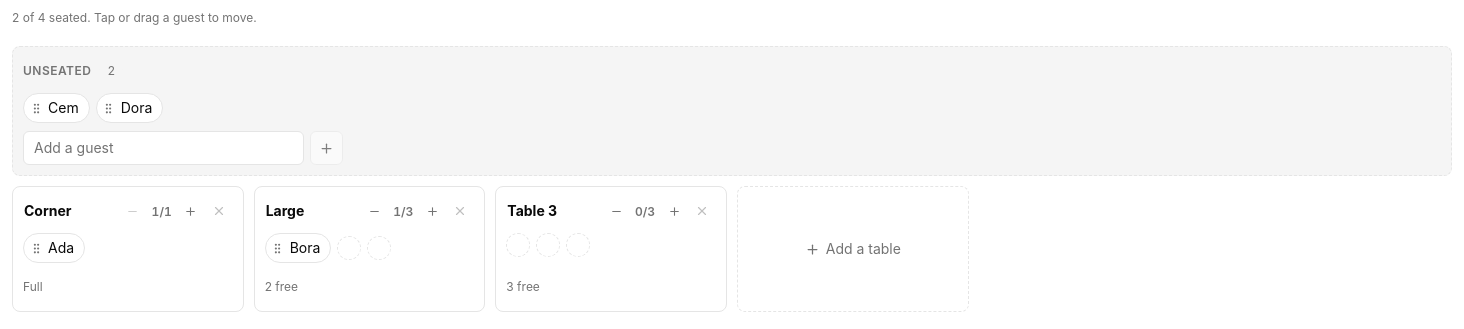
Seating › adds, renames and removes guests and tables
Earlier steps of the test are not shown.
Click the button named "One seat more at Corner". click: click(191, 211)
box: [179,199,203,223]
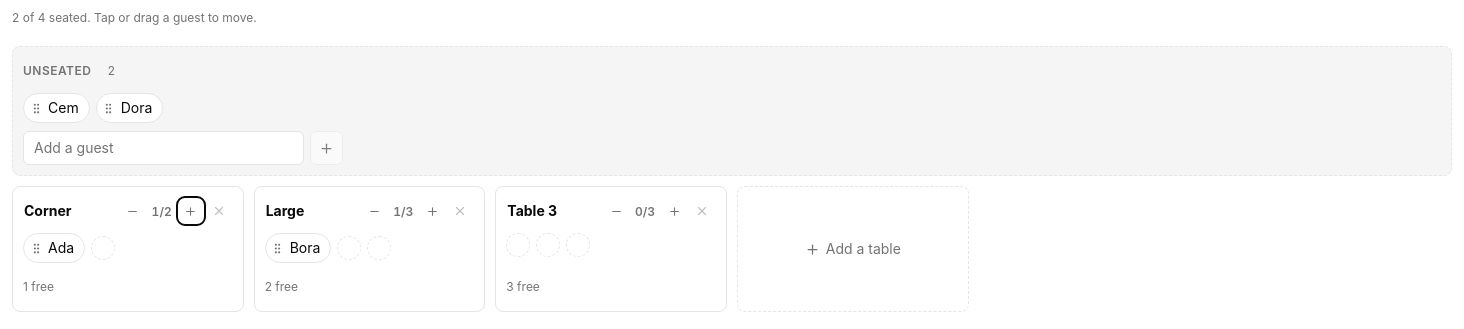
Expected: the text "1 free" is shown, [23,278,54,295]
Click the button named "One seat fewer at Corner". click: click(133, 211)
box: [121,199,145,223]
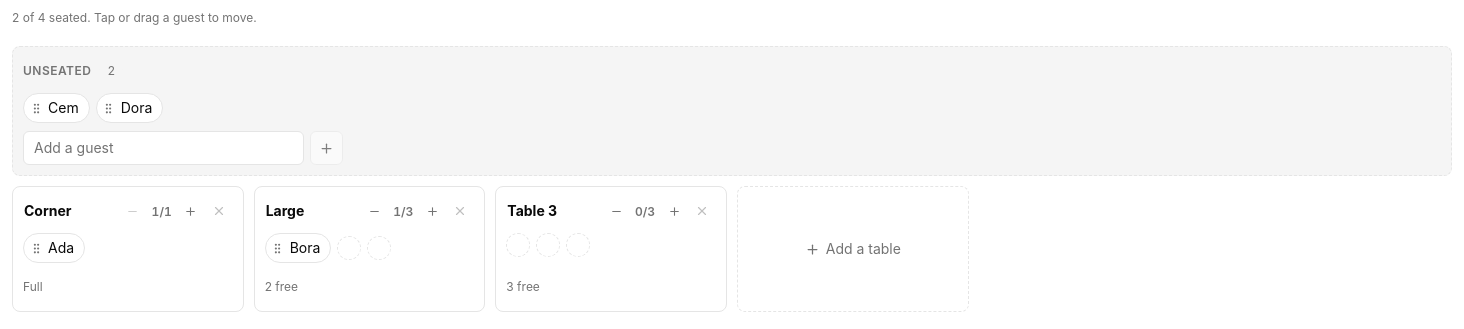
Click the button "Cem". click: click(56, 108)
box: [23,93,90,123]
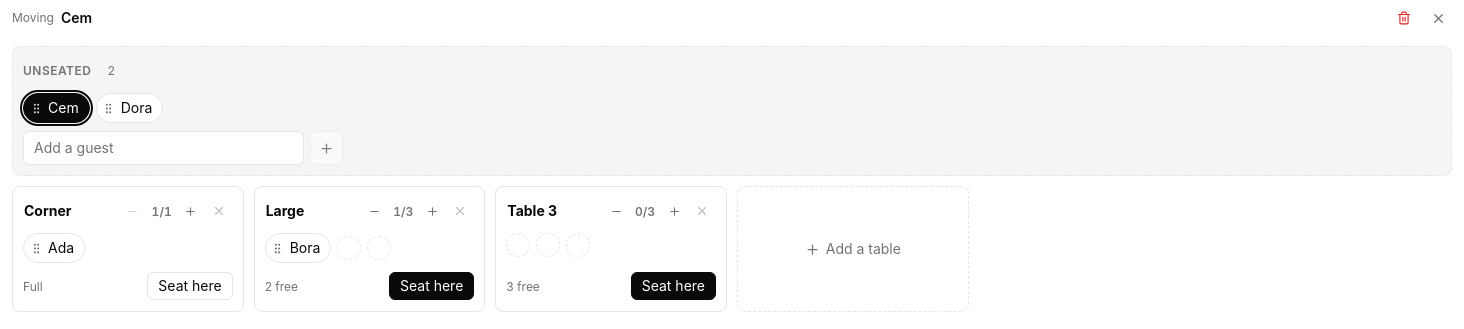
Replace the text in the field named "Name of Cem" with "Cem B.". click: (718, 18)
box: [56,5,1380,31]
Then press Enter
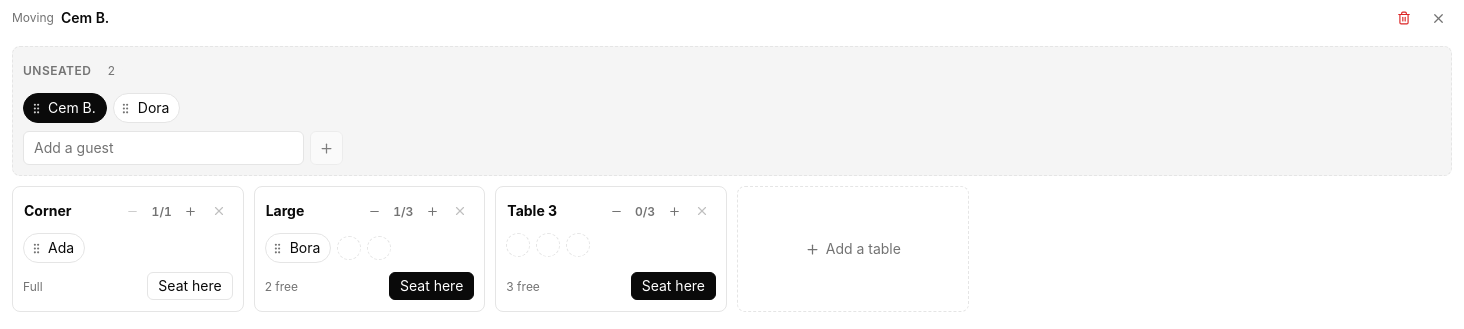
Click the button named "Remove Cem B.". click: click(1404, 18)
box: [1390,4,1418,32]
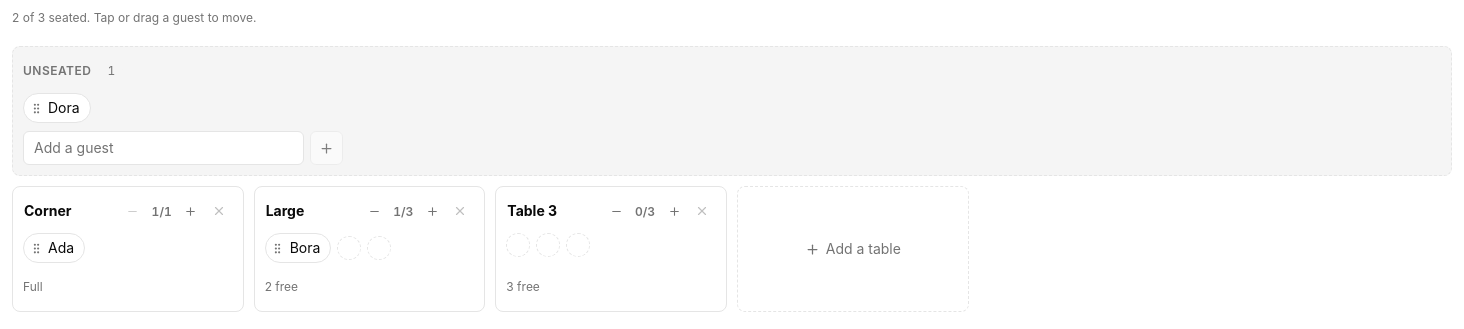
guests of a removed table return to the pool
Click the button named "Remove Corner". click: click(219, 211)
box: [205,197,233,225]
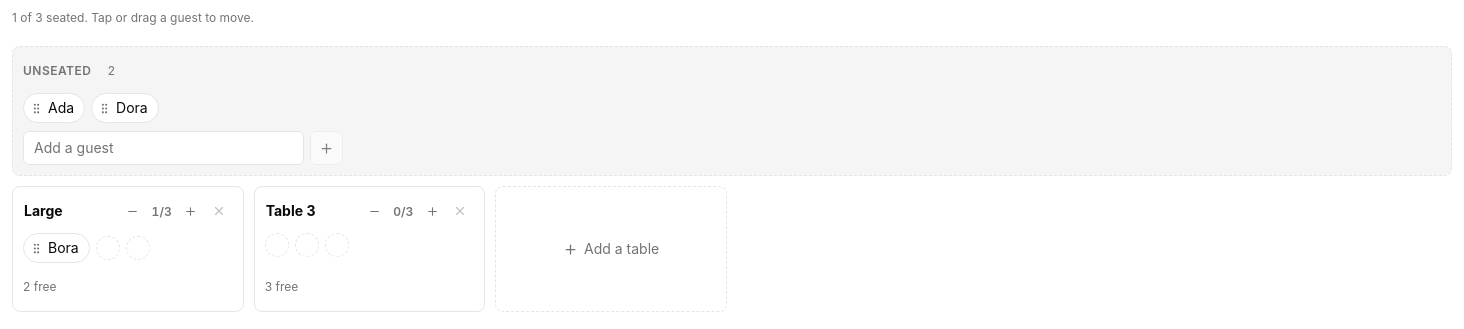
Expected: the field labelled "Corner" is gone
